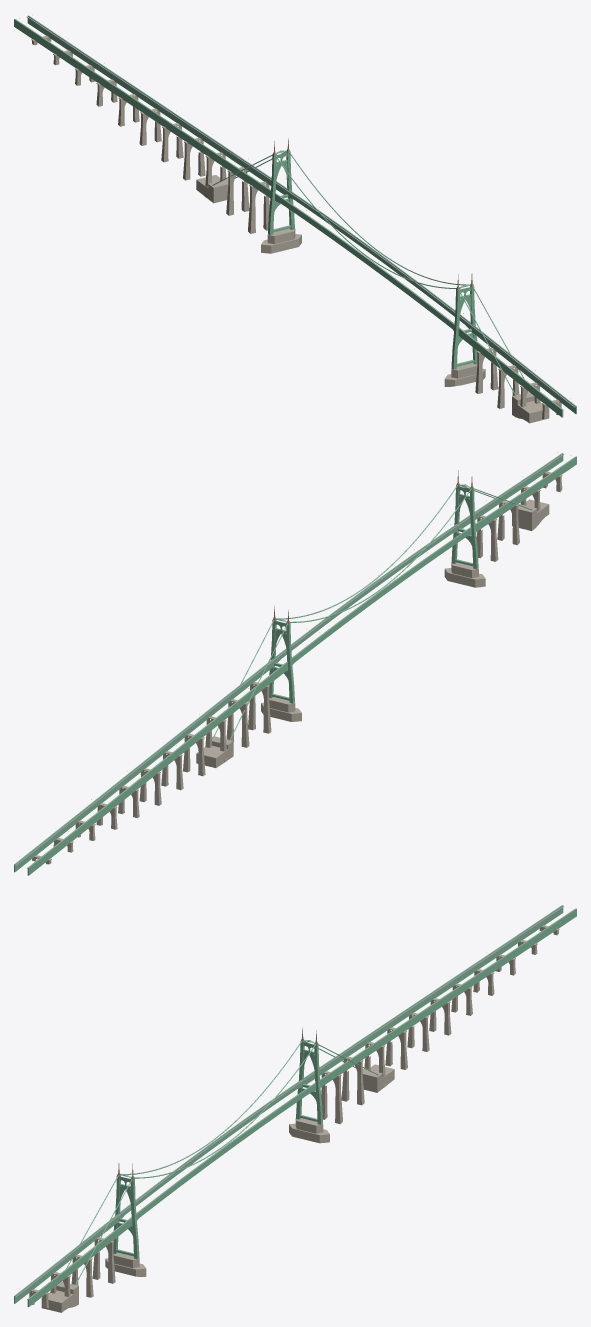
The model's file is pdx-st-johns-bridge.glb.
3 views of the same model, one above another, from view 1: azimuth 30°, elevation 25°; view 2: azimuth 150°, elevation 25°; view 3: azimuth 330°, elevation 25° (orthographic).
Visible parts, largest first — view 1: St. Johns Bridge; view 2: St. Johns Bridge; view 3: St. Johns Bridge.
Boxes of the visible parts, x1,y1,x2,y2 form: St. Johns Bridge: [14, 15, 576, 423]; St. Johns Bridge: [14, 452, 576, 875]; St. Johns Bridge: [14, 905, 576, 1312].
Bounding box in the file's own units: 47.6 × 122 × 1099.
